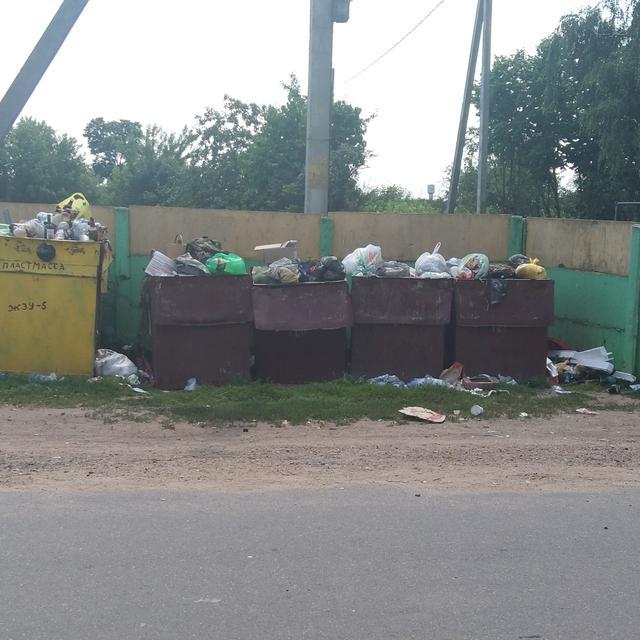Trash_Can_Full: (0, 193, 114, 378), (145, 236, 252, 387), (253, 241, 350, 384), (351, 242, 451, 380), (454, 251, 556, 385)
